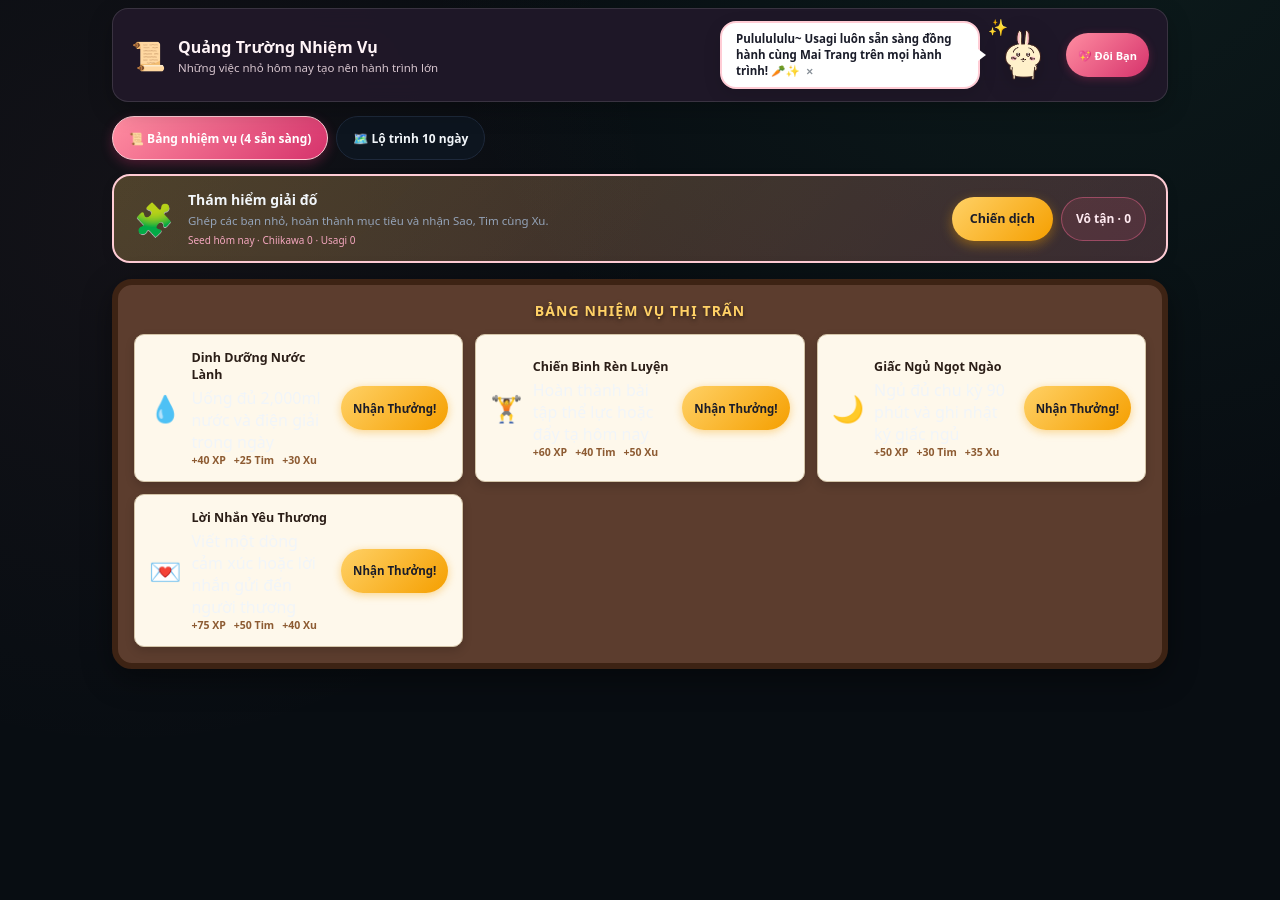
Test: Building Interiors Suite — Phase 04 › 8. QuestSquareInterior renders bulletin noticeboard and reward claims
Expected: the heading "Quảng Trường Nhiệm Vụ" is shown, [178,36,378,58]
Expected: the text "BẢNG NHIỆM VỤ THỊ TRẤN" is shown, [535,301,745,320]
Click the button "Nhận Thưởng!" below "Dinh Dưỡng Nước Lành": (395, 408) [341,386,448,430]
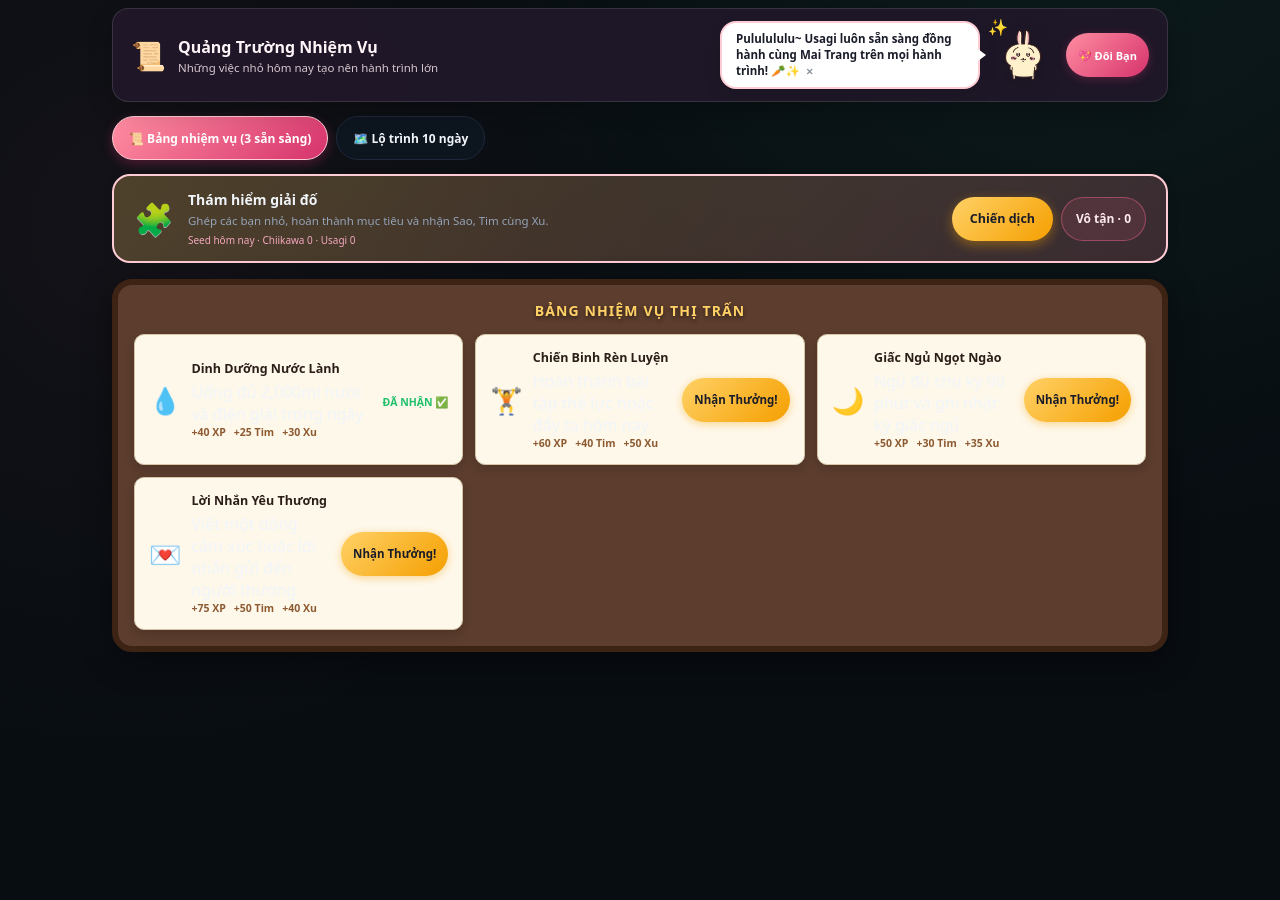
Expected: the text "ĐÃ NHẬN ✅" is shown, [383,395,448,409]
